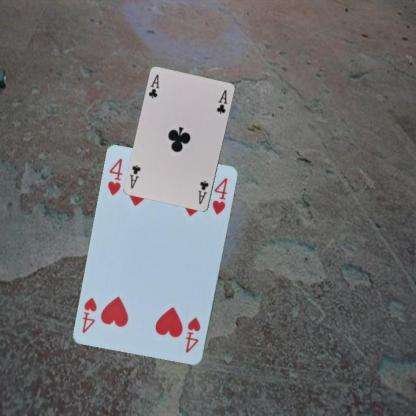4h: (182, 314, 203, 354), (105, 156, 124, 198)
Ac: (146, 72, 161, 100), (196, 178, 210, 206)
